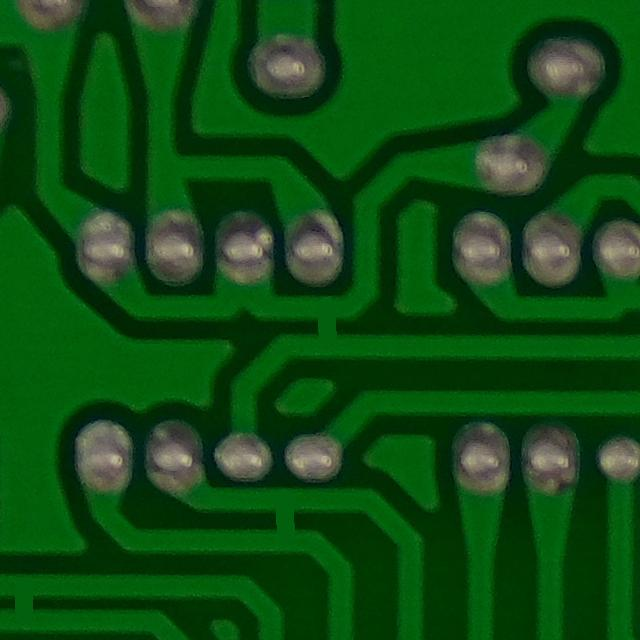short: (275, 274, 365, 366)
